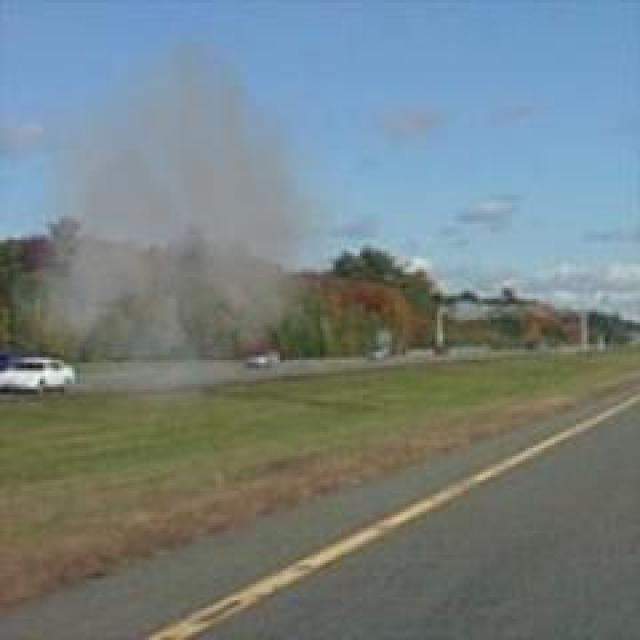Smoke: (15, 18, 327, 430)
